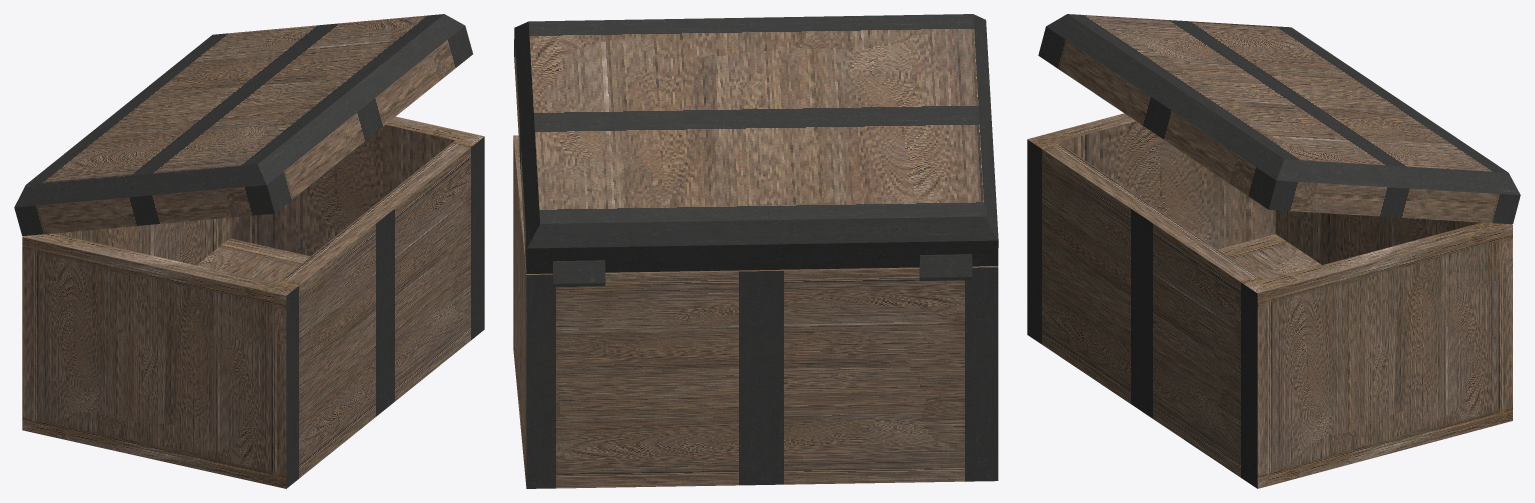
The model's file is chest-1.glb.
The picture shows the model from 3 angles, left to right: view 1: azimuth 30°, elevation 25°; view 2: azimuth 150°, elevation 25°; view 3: azimuth 270°, elevation 25°; orthographic projection. The views are drawn at different scales.
Parts seen in each view (by area): view 1: Chest_1, Chest_1_lid; view 2: Chest_1_lid, Chest_1; view 3: Chest_1, Chest_1_lid.
Part boxes in pixels (<box>): Chest_1: <box>22,116,484,488</box>; Chest_1_lid: <box>14,14,472,236</box>; Chest_1_lid: <box>514,14,998,273</box>; Chest_1: <box>513,135,998,488</box>; Chest_1: <box>1027,113,1512,488</box>; Chest_1_lid: <box>1038,14,1520,224</box>.
Bounding box in the file's own units: 1.17 × 0.7687 × 1.09.
Materials: 1 (1 with a texture image).
